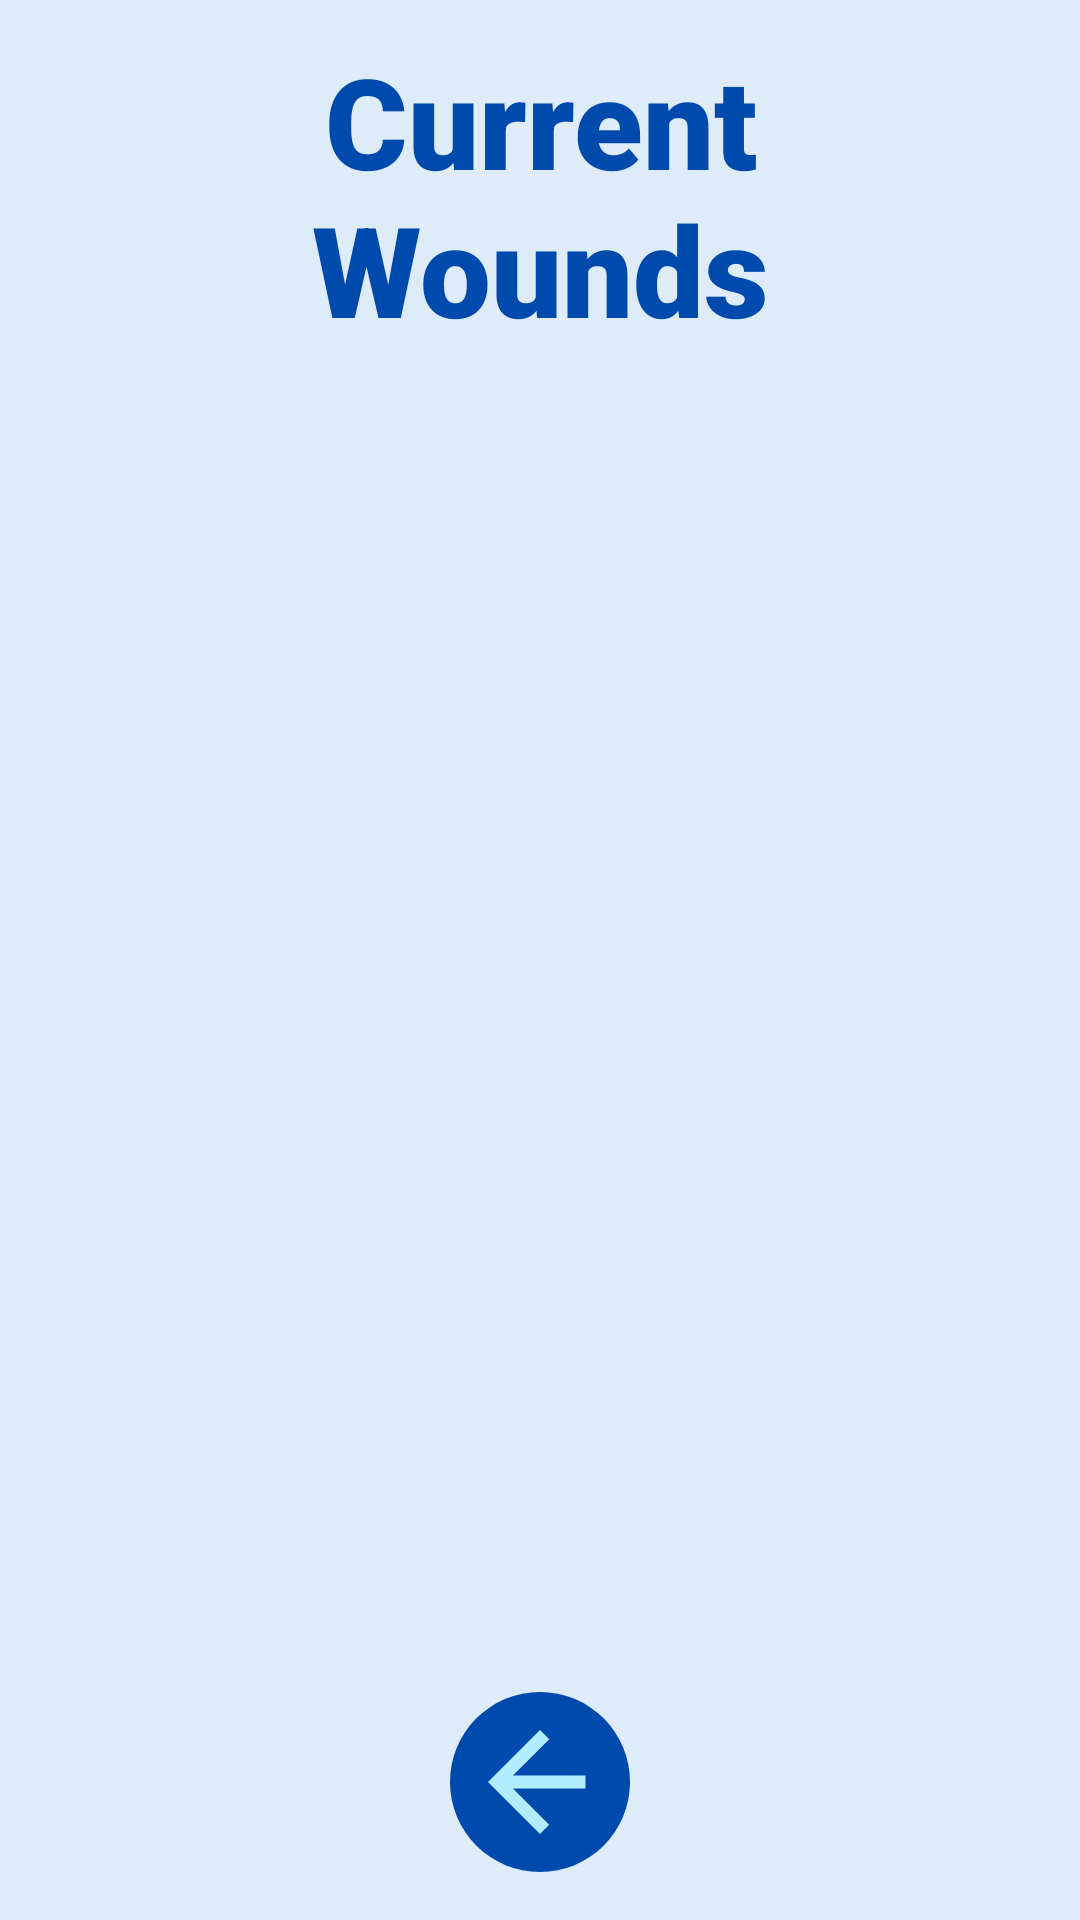

Icon bounding boxes for this 1080x1920 phone screenshot, format (x1, y1, x2, y2):
back arrow: (450, 1692, 630, 1872)
